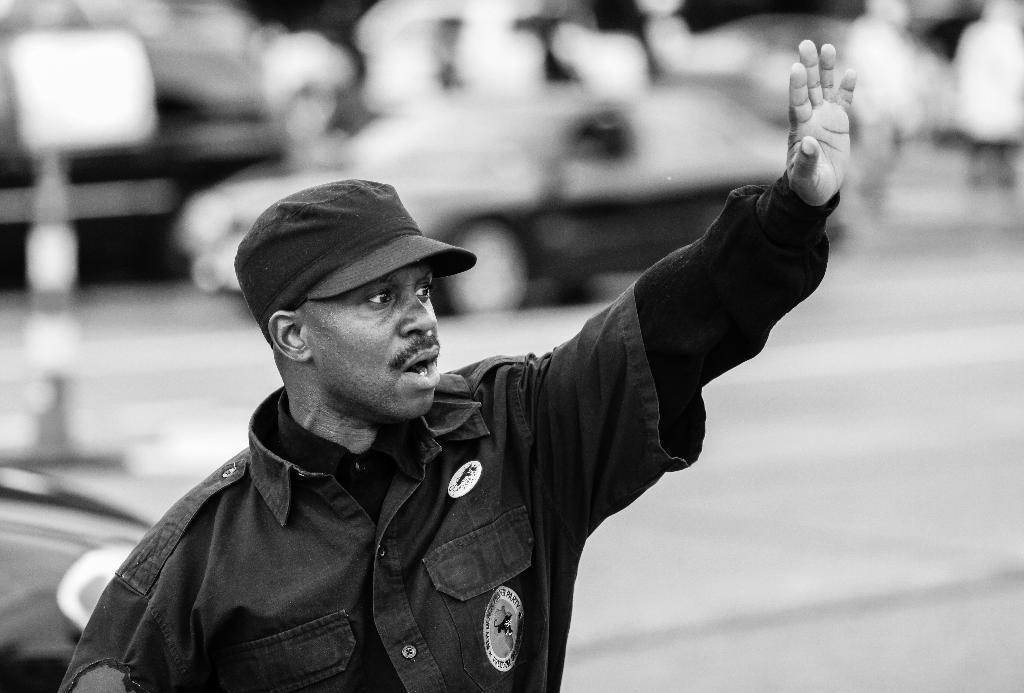Hat: (233, 179, 476, 346)
